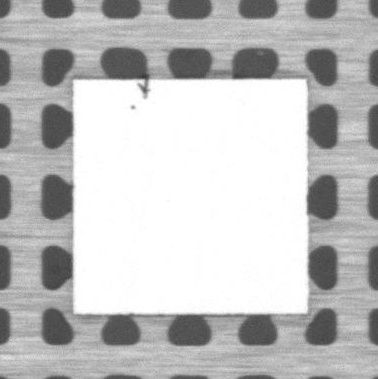DIE_INK: (136, 79, 155, 99), (127, 101, 140, 113)
